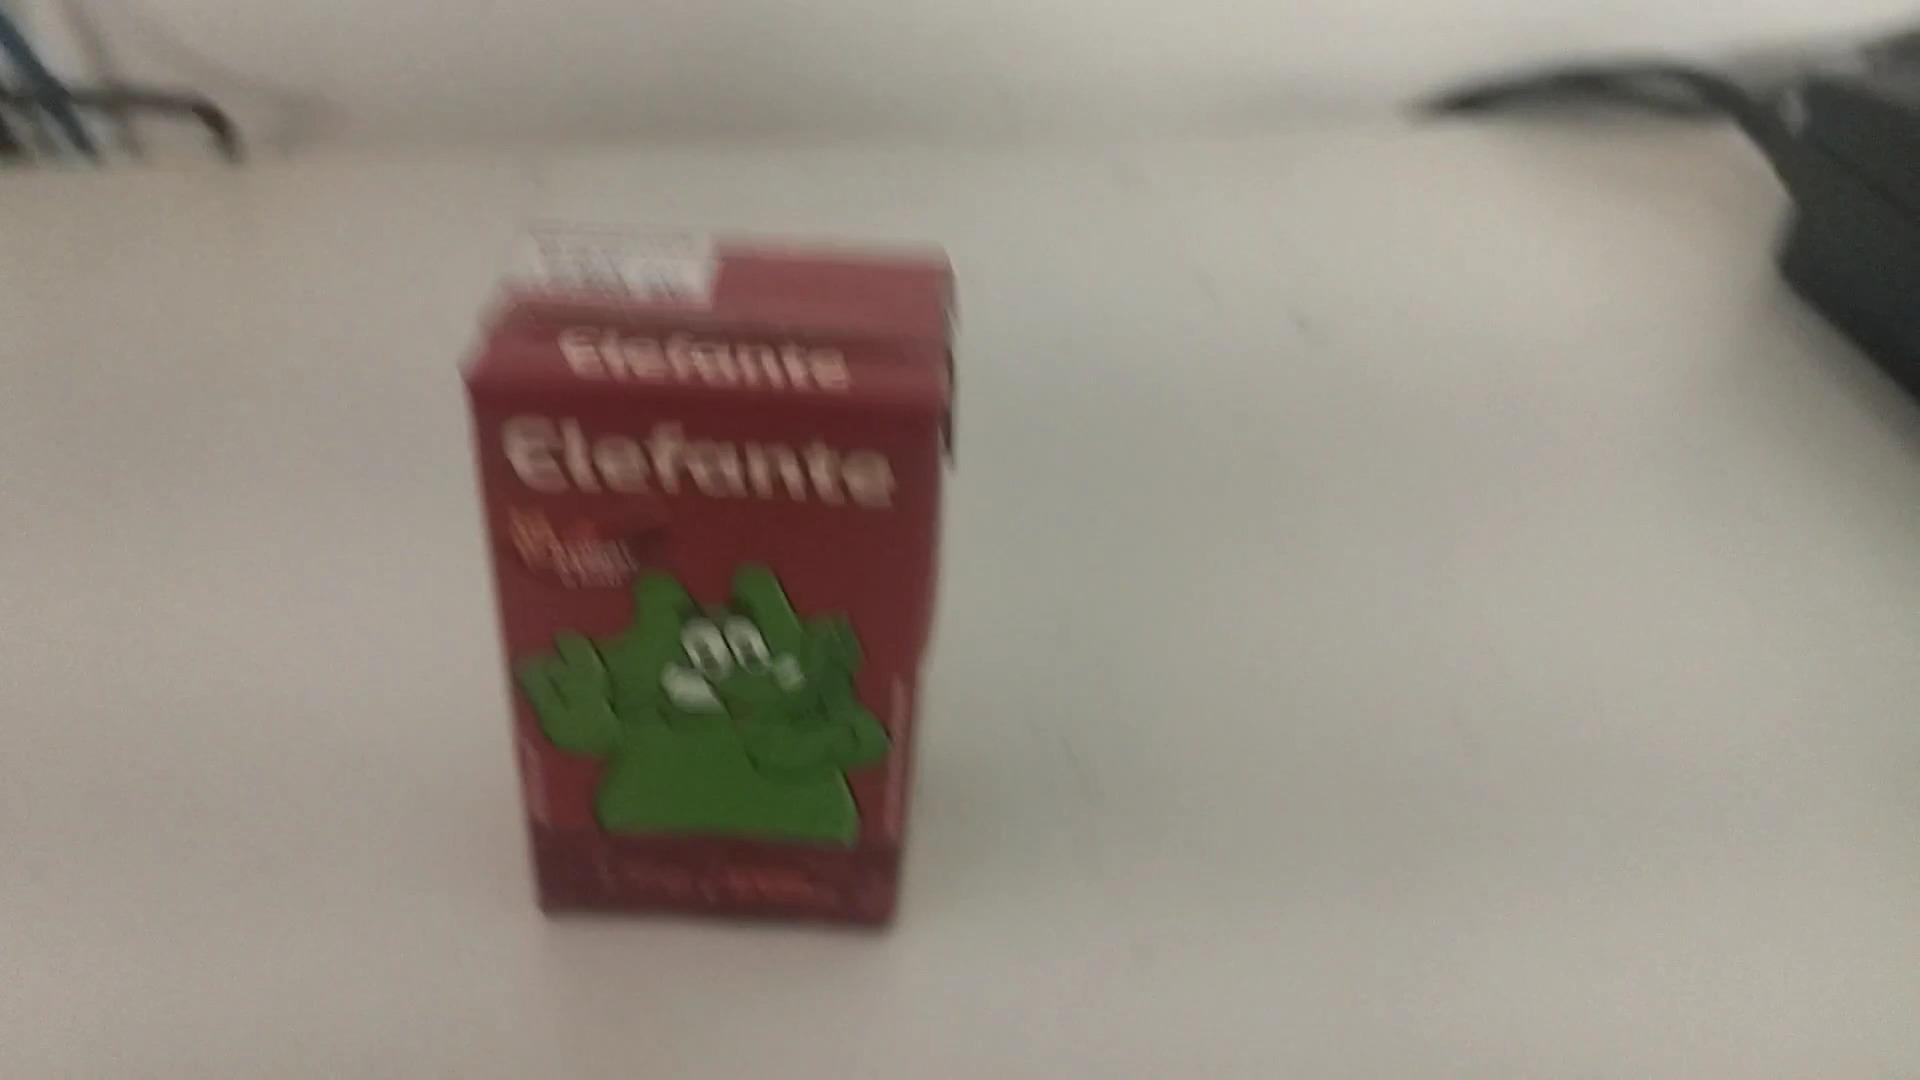tomate: (450, 216, 984, 934)
